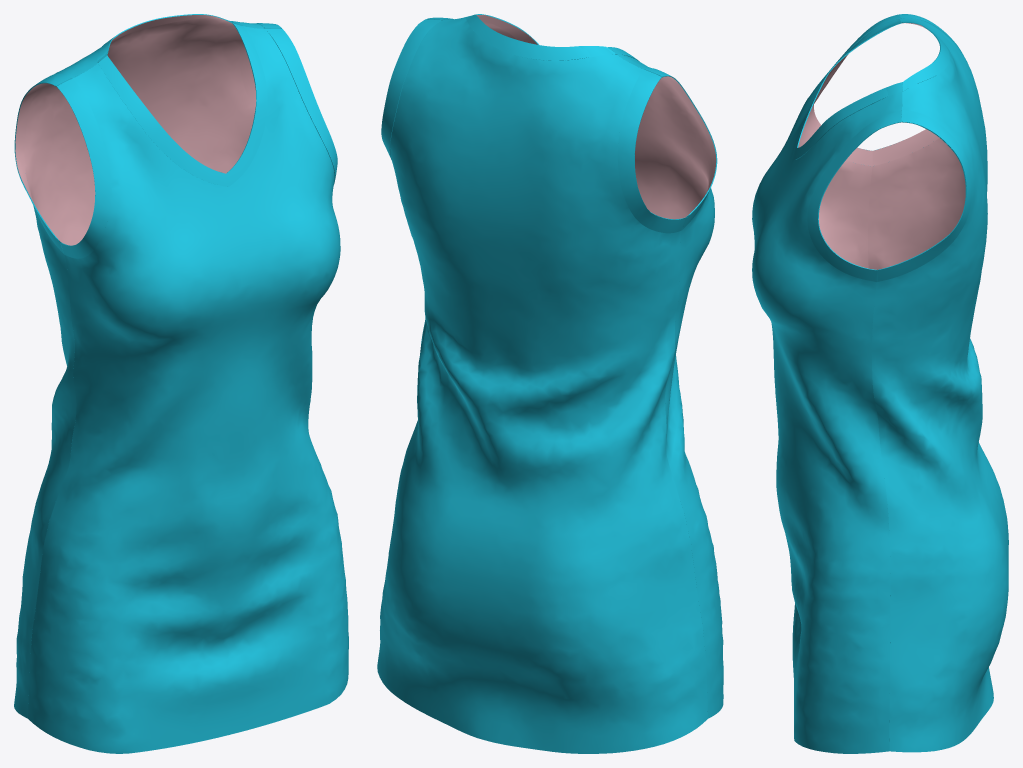
Rendered from women2.glb.
The picture shows the model from 3 angles, left to right: view 1: azimuth 30°, elevation 25°; view 2: azimuth 150°, elevation 25°; view 3: azimuth 270°, elevation 25°; orthographic projection. The views are drawn at different scales.
Visible parts, largest first — view 1: model.003; view 2: model.003; view 3: model.003.
Part boxes in pixels (x1,y1,x2,y2): model.003: (14,14,348,753); model.003: (377,14,723,753); model.003: (752,14,1008,753).
Size of the model in its own units: 0.3499 by 0.7236 by 0.2587.
